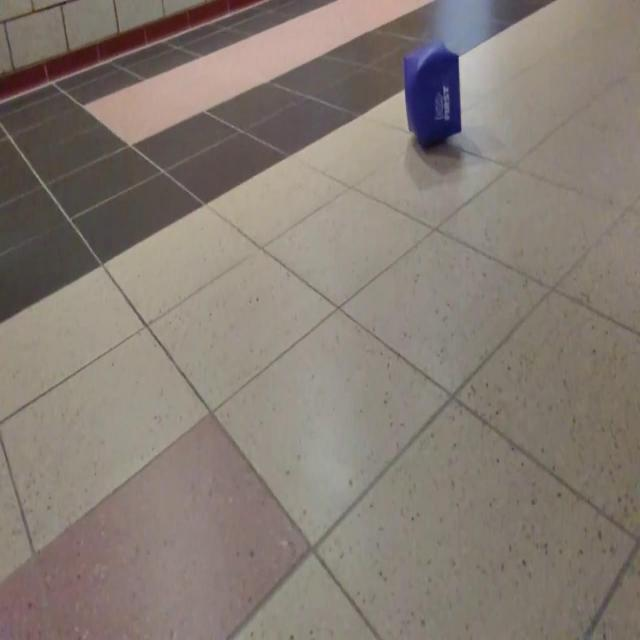frc_cube: (401, 41, 461, 148)
